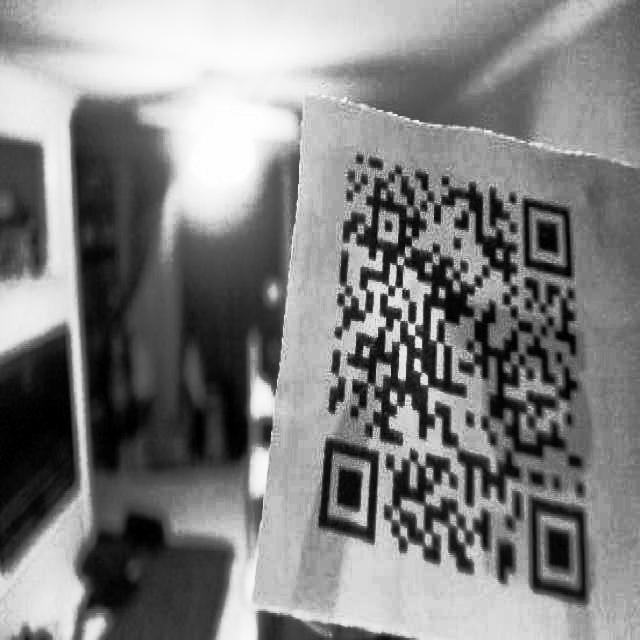qr_code: (301, 127, 609, 618)
